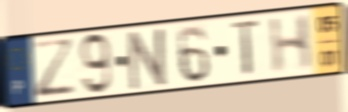6: (175, 23, 212, 86)
9: (77, 32, 113, 97)
H: (267, 12, 314, 77)
N: (127, 25, 171, 93)
T: (230, 17, 263, 80)
Z: (31, 36, 79, 102)
